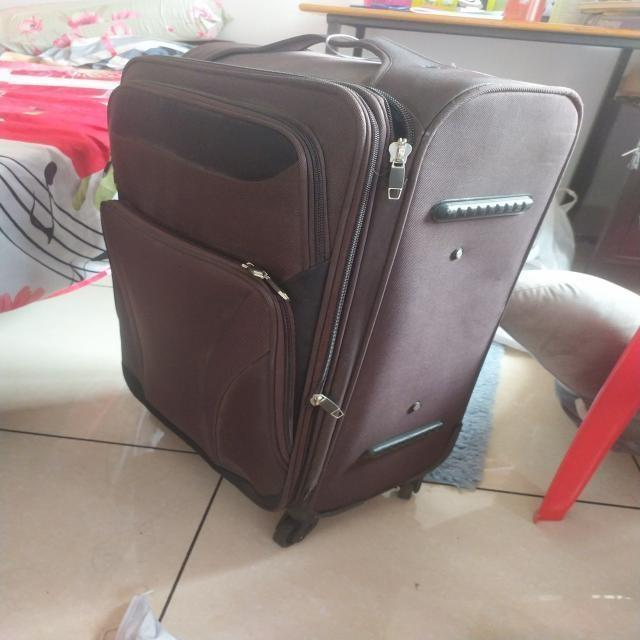Suitcase: (94, 23, 588, 551)
